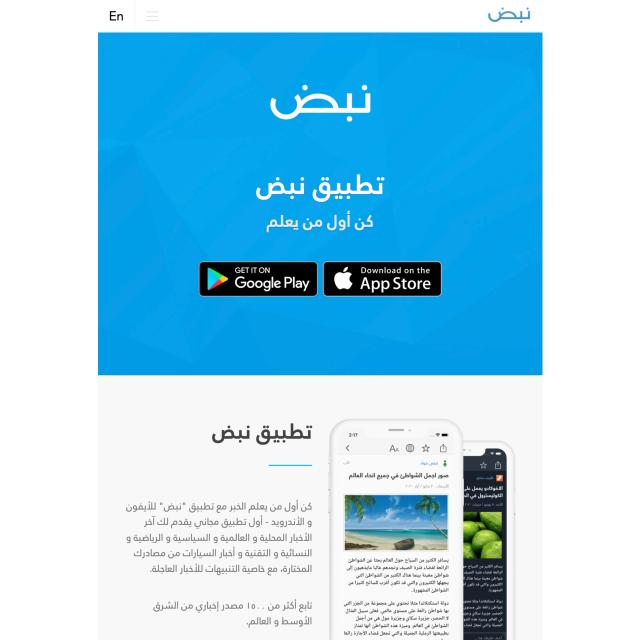logo: (483, 2, 535, 27)
navigation: (142, 8, 163, 27)
